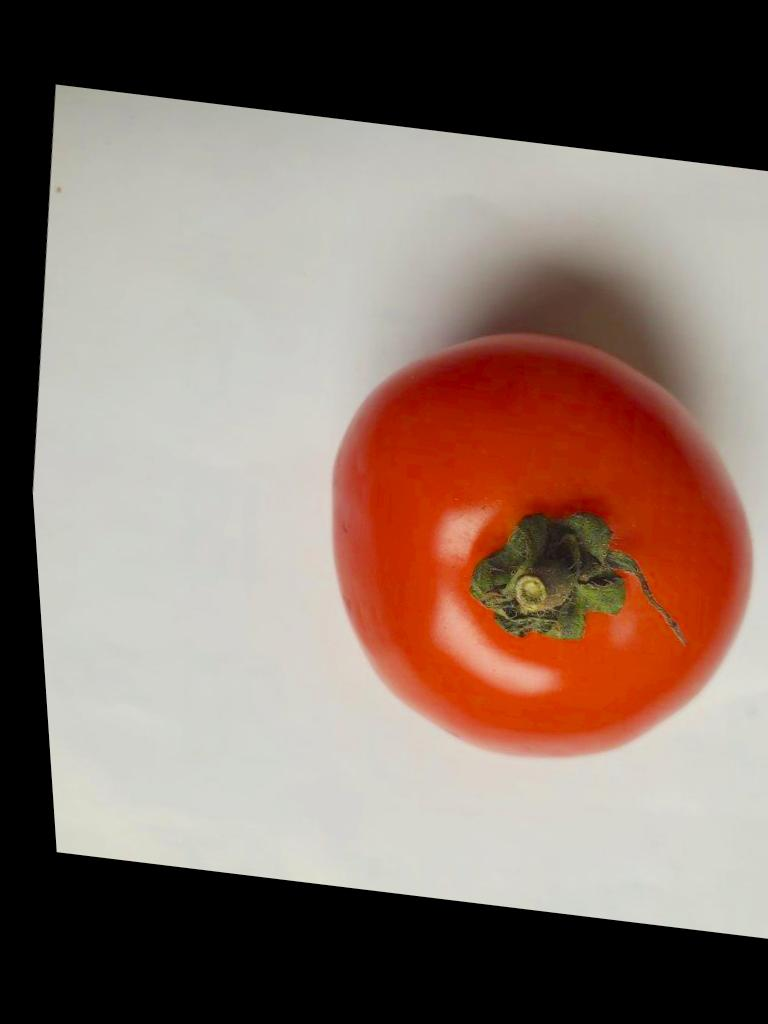tomato: (332, 334, 750, 755)
